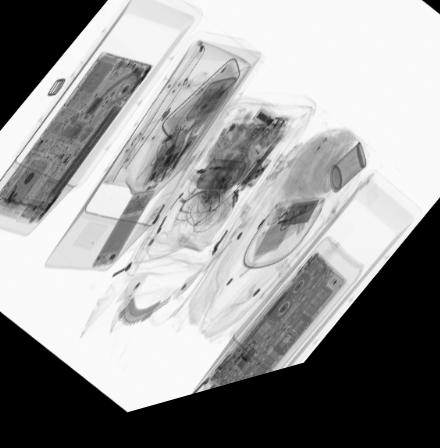Scissors: (279, 222, 314, 246)
